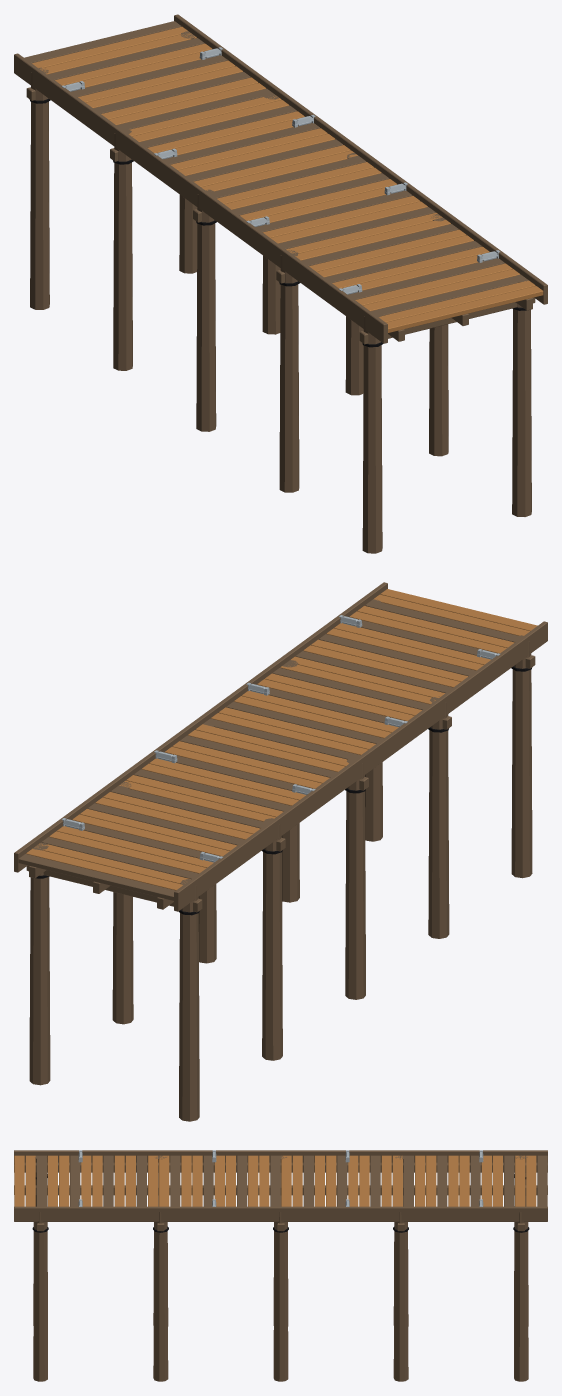
File: HARBOR_01.obj
3 renders of one model, top to bottom at view 1: azimuth 30°, elevation 25°; view 2: azimuth 150°, elevation 25°; view 3: azimuth 270°, elevation 25°, orthographic. The views are drawn at different scales.
Visible parts, largest first — view 1: HARBOR_01__deck_planks, HARBOR_01__piles, HARBOR_01__fascia, HARBOR_01__cleats, HARBOR_01__cross_beams; view 2: HARBOR_01__deck_planks, HARBOR_01__piles, HARBOR_01__fascia, HARBOR_01__cleats, HARBOR_01__cross_beams; view 3: HARBOR_01__deck_planks, HARBOR_01__piles, HARBOR_01__fascia, HARBOR_01__stringers, HARBOR_01__cross_beams, HARBOR_01__cleats.
Boxes of the visible parts, box(x1,y1,x2,y2) form: HARBOR_01__deck_planks: box(24, 21, 543, 332); HARBOR_01__piles: box(30, 31, 531, 553); HARBOR_01__fascia: box(14, 14, 547, 343); HARBOR_01__cleats: box(61, 47, 500, 294); HARBOR_01__cross_beams: box(26, 87, 535, 344); HARBOR_01__deck_planks: box(18, 589, 537, 900); HARBOR_01__piles: box(29, 599, 532, 1121); HARBOR_01__fascia: box(14, 582, 547, 911); HARBOR_01__cleats: box(61, 615, 500, 862); HARBOR_01__cross_beams: box(26, 655, 535, 912); HARBOR_01__deck_planks: box(14, 1155, 547, 1206); HARBOR_01__piles: box(33, 1155, 528, 1381); HARBOR_01__fascia: box(14, 1150, 547, 1221); HARBOR_01__stringers: box(14, 1162, 547, 1195); HARBOR_01__cross_beams: box(37, 1172, 524, 1231); HARBOR_01__cleats: box(78, 1150, 483, 1206).
Bounding box in the file's own units: 3.2 × 4.31 × 12.
